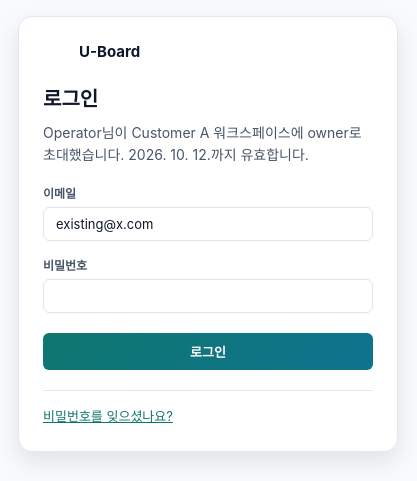
Test: InvitePage › shows an error and does not navigate when accepting the invitation fails after login
In the password field labelled "비밀번호": (208, 296) [43,279,373,313], type "p4ssword!"
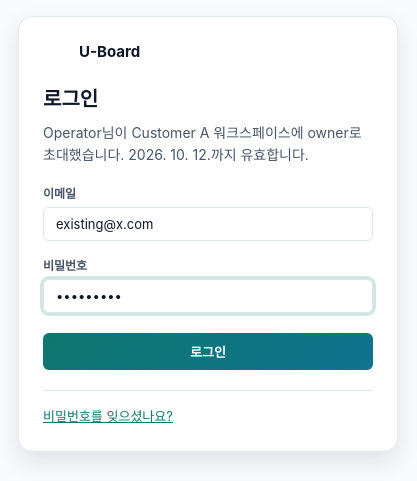
Click the button "로그인": click(208, 352) [43,333,373,370]
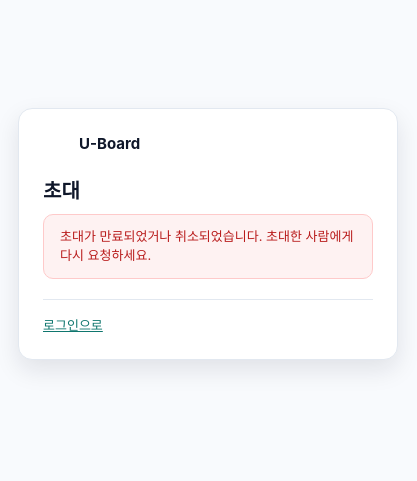
Expected: the message reads "초대가 만료되었거나 취소되었습니다. 초대한 사람에게 다시 요청하세요.", [60,228,354,263]
